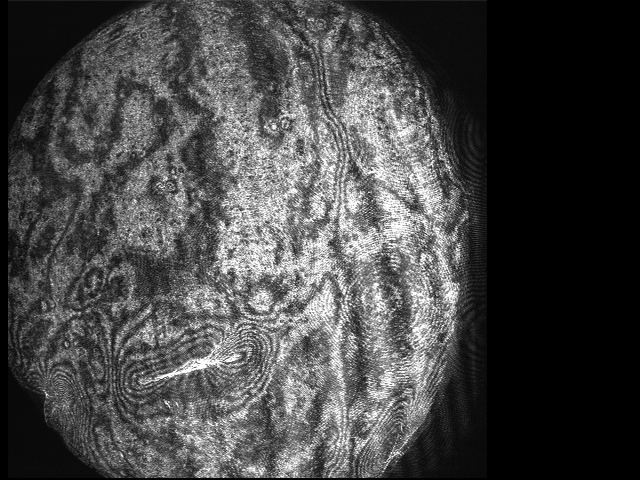plume: (112, 325, 279, 403)
